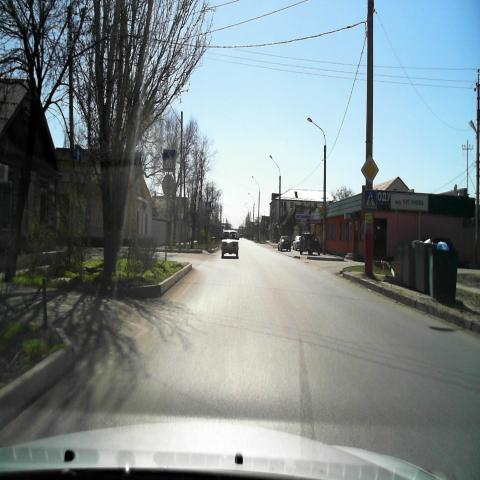2_1: (361, 155, 379, 186)
5_19_1: (162, 149, 176, 171), (364, 189, 378, 211), (204, 200, 212, 212)
